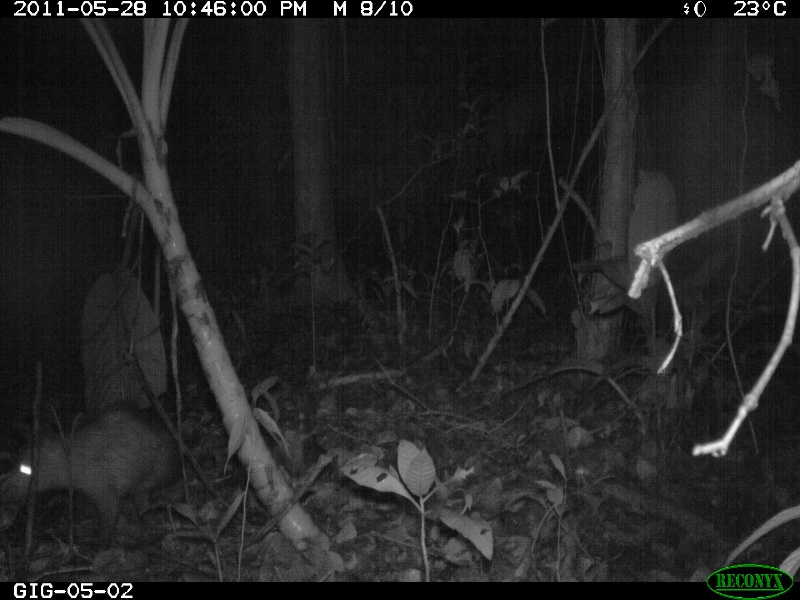opossum: (9, 401, 177, 515)
